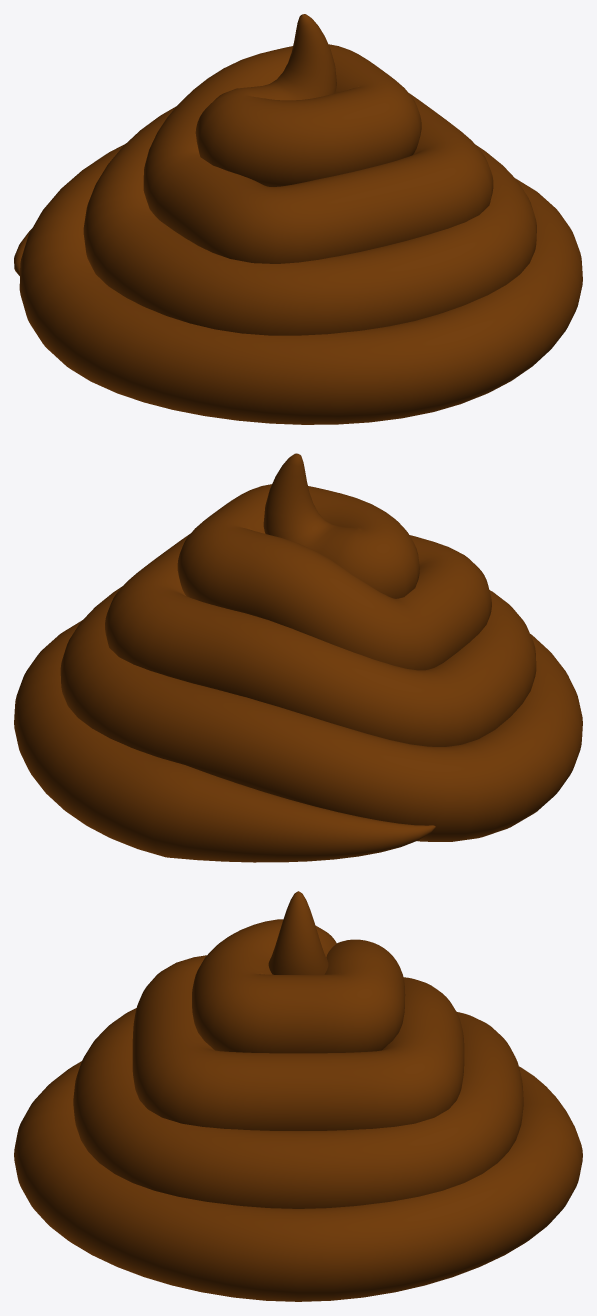
Rendered from X_Unti.fbx.
3 views of the same model, one above another, from view 1: azimuth 30°, elevation 25°; view 2: azimuth 150°, elevation 25°; view 3: azimuth 270°, elevation 25° (orthographic).
Parts seen in each view (by area): view 1: Unti_2; view 2: Unti_2; view 3: Unti_2.
Boxes of the visible parts, x1,y1,x2,y2 form: Unti_2: (14,14,582,424); Unti_2: (14,453,582,862); Unti_2: (14,891,582,1301).
Bounding box in the file's own units: 96 × 57.01 × 96.
